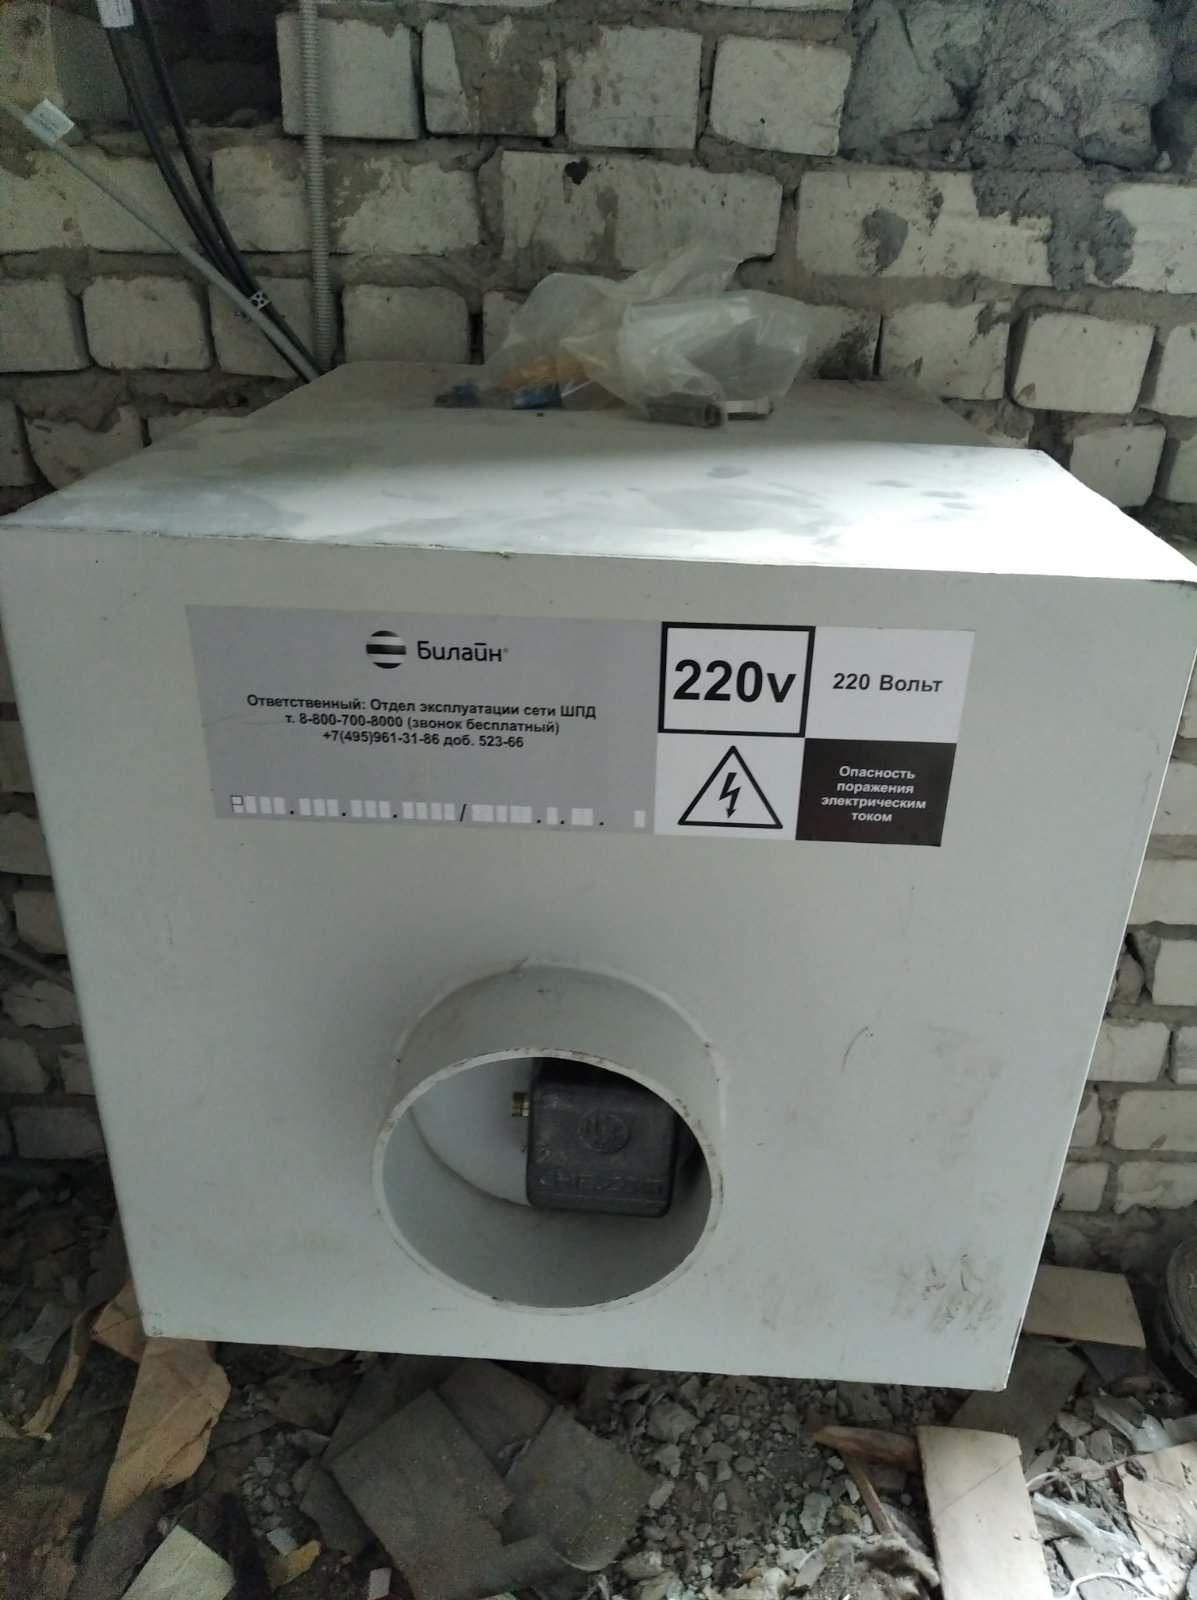shta-9: (5, 344, 1179, 1403)
